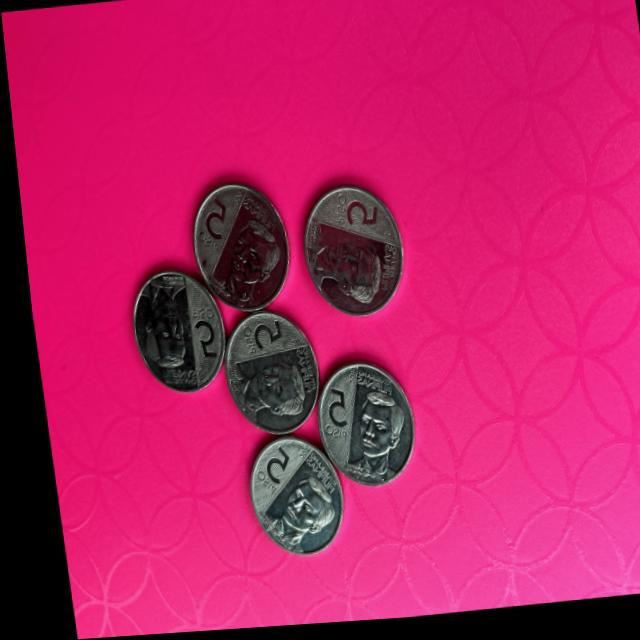5_New_Front: (176, 296, 218, 370), (323, 189, 381, 237), (238, 448, 286, 504), (185, 193, 237, 244), (235, 314, 283, 356), (314, 386, 343, 443)
